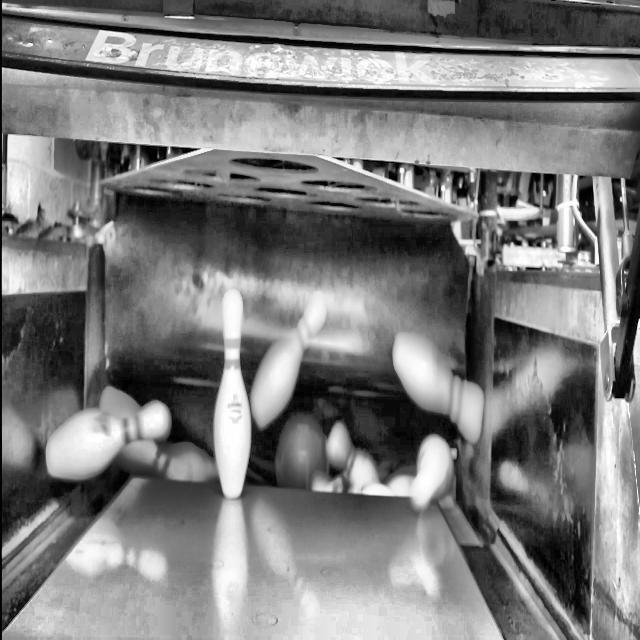bowling-ball: (276, 414, 328, 489)
bowling-pins: (213, 289, 251, 499)
